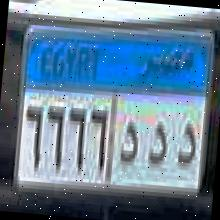6: (42, 101, 69, 176), (64, 100, 90, 174), (85, 104, 111, 172), (22, 99, 47, 169)
daal: (112, 117, 142, 173), (172, 119, 198, 173), (144, 118, 170, 171)
